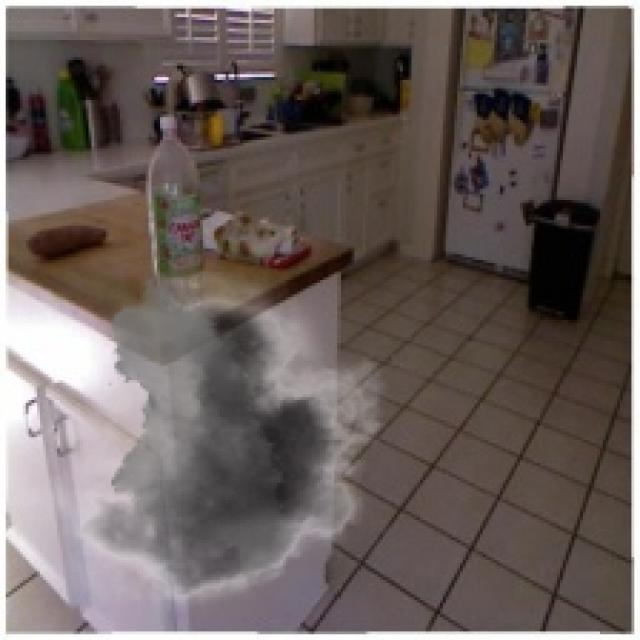smoke: (6, 271, 403, 626)
